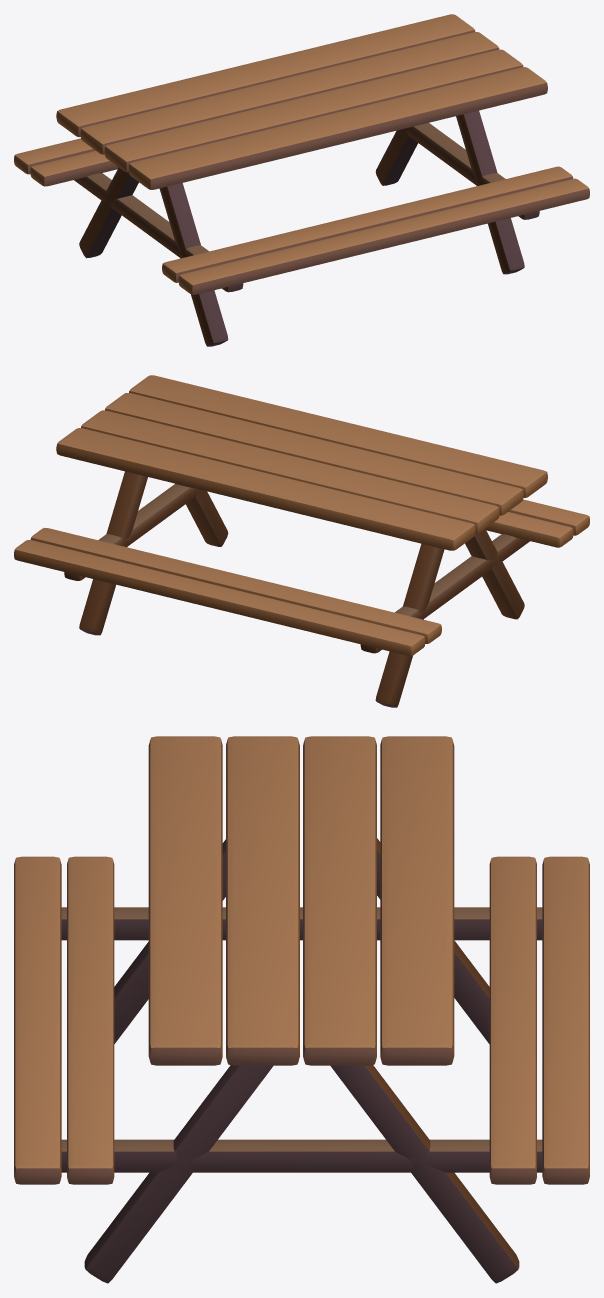
File: PicnicTable.fbx
3 renders of one model, top to bottom at view 1: azimuth 30°, elevation 25°; view 2: azimuth 150°, elevation 25°; view 3: azimuth 270°, elevation 25°, orthographic. The views are drawn at different scales.
Visible parts, largest first — view 1: SM_Yard_PicnicTable; view 2: SM_Yard_PicnicTable; view 3: SM_Yard_PicnicTable.
Boxes of the visible parts, x1,y1,x2,y2 form: SM_Yard_PicnicTable: (14,14,589,346); SM_Yard_PicnicTable: (14,375,589,707); SM_Yard_PicnicTable: (14,736,589,1283).
Bounding box in the file's own units: 7 × 2.84 × 5.45.
